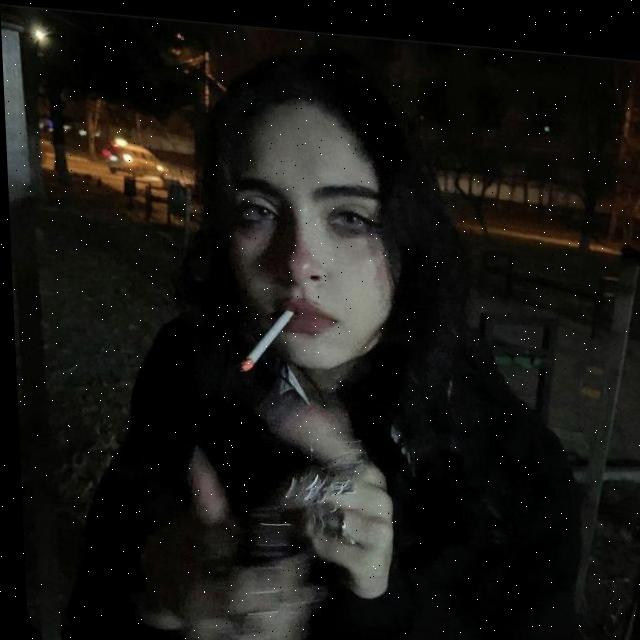cigarette: (234, 296, 292, 375)
